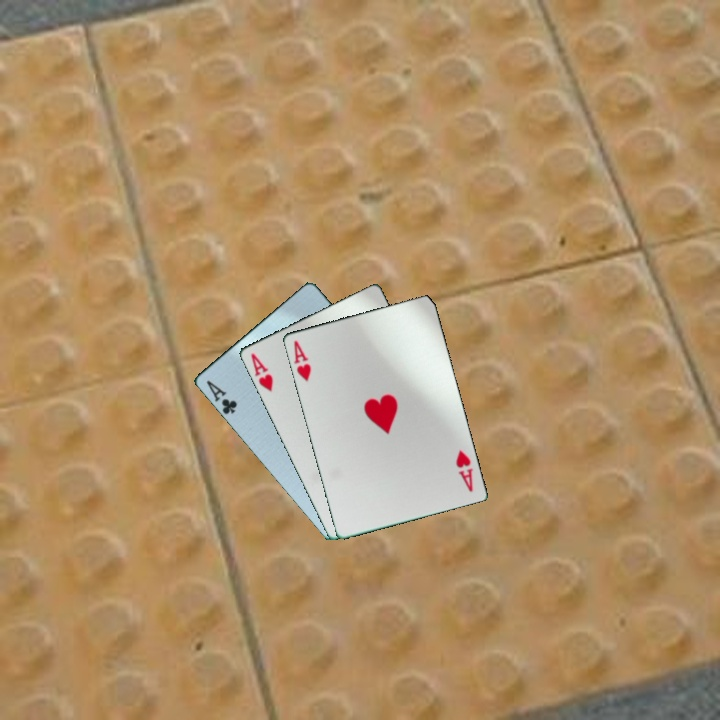Ac: (202, 376, 240, 417)
Ah: (247, 350, 276, 394), (452, 446, 476, 495), (290, 337, 314, 384)
